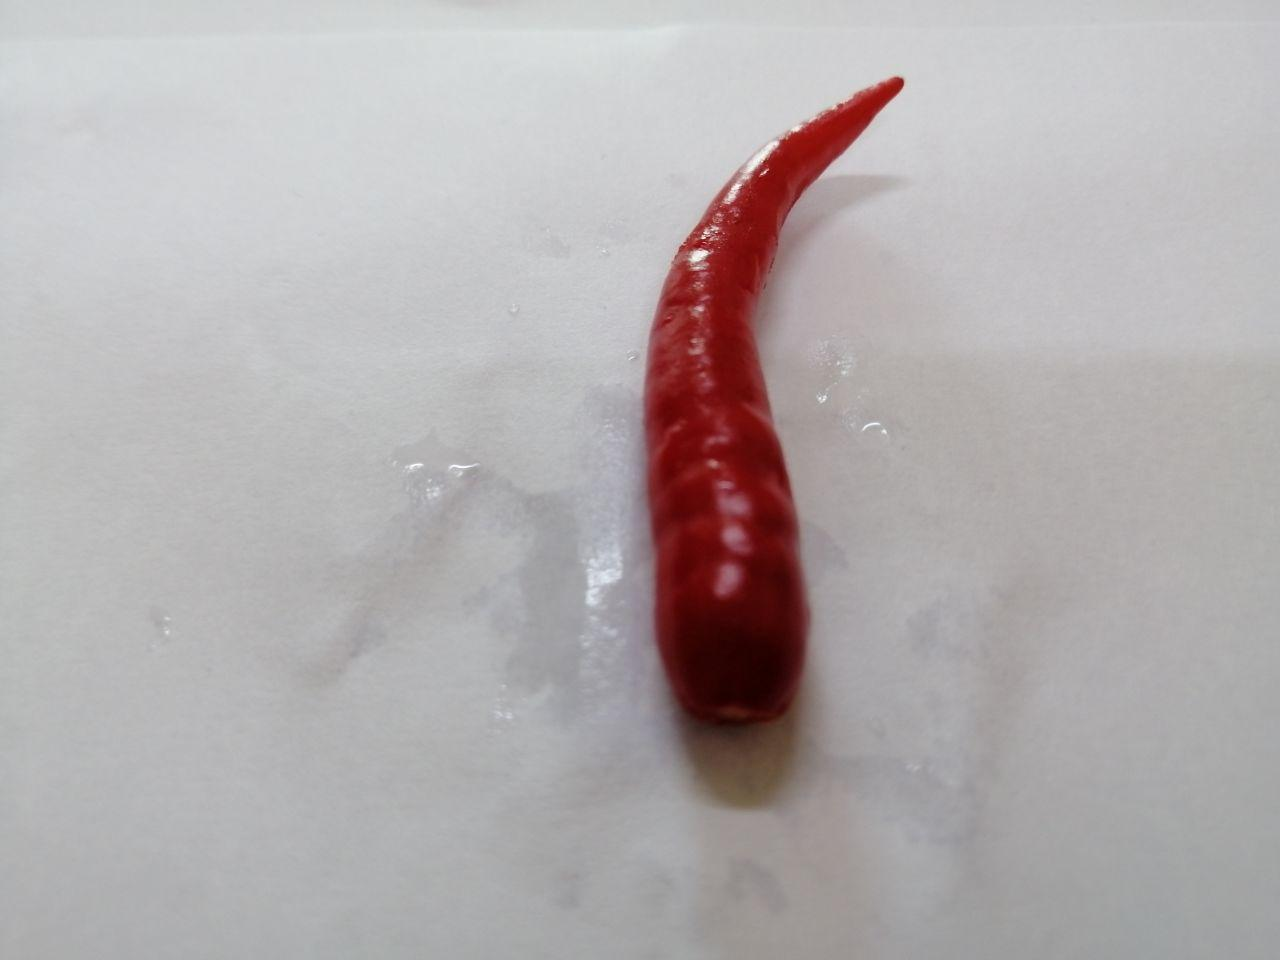lada merah: (613, 59, 941, 761)
